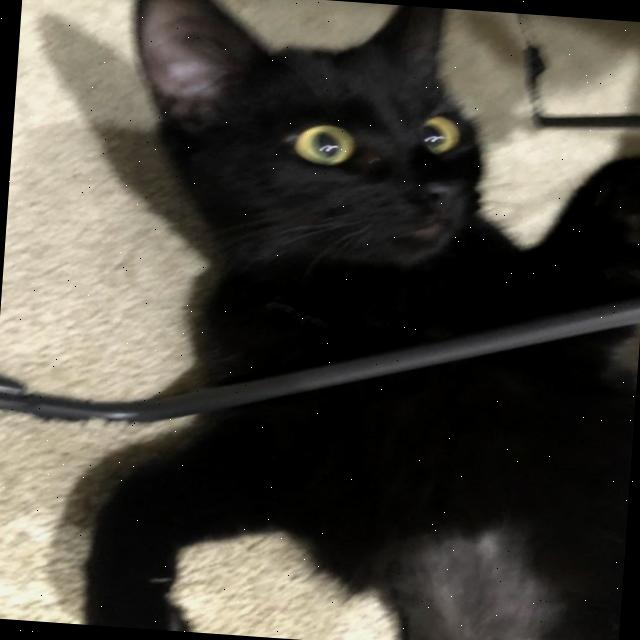american_shorthair_cat: (112, 0, 548, 319)
